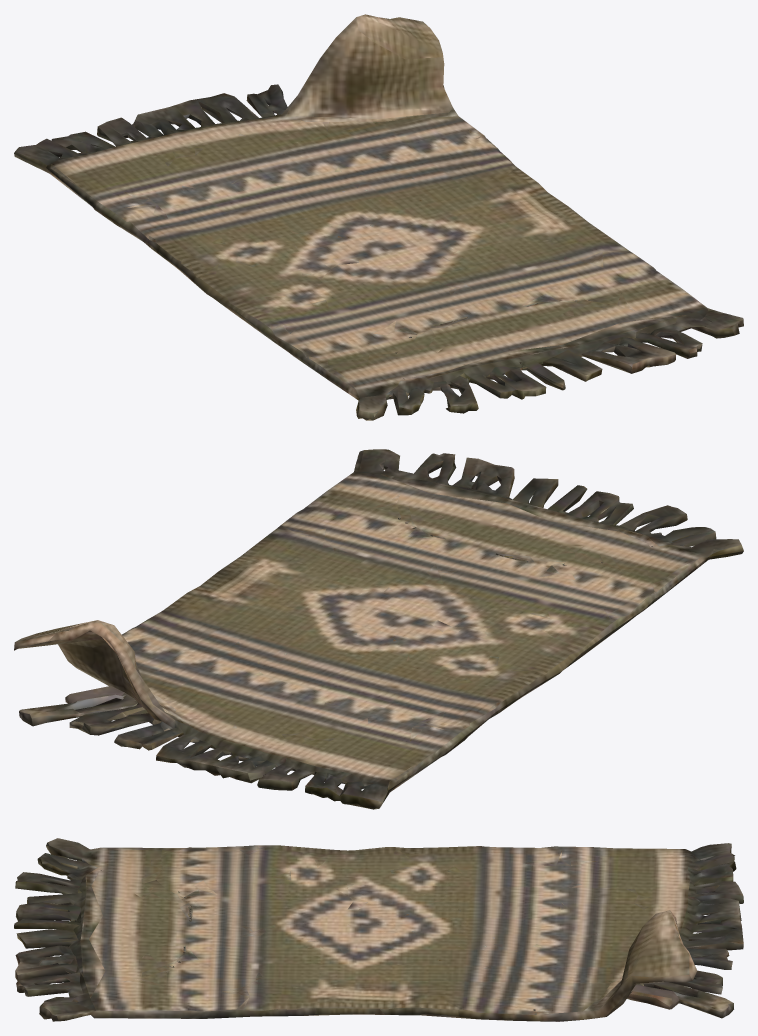
The picture shows the model from 3 angles, top to bottom: view 1: azimuth 30°, elevation 25°; view 2: azimuth 150°, elevation 25°; view 3: azimuth 270°, elevation 25°; orthographic projection. The views are drawn at different scales.
Parts seen in each view (by area): view 1: geometry_0; view 2: geometry_0; view 3: geometry_0.
Part boxes in pixels (bbox=[...]): geometry_0: bbox=[14, 14, 743, 420]; geometry_0: bbox=[14, 449, 743, 809]; geometry_0: bbox=[14, 838, 743, 1021].
Size of the model in its own units: 1.19 by 0.2647 by 1.99.
1 material, 1 textured.
